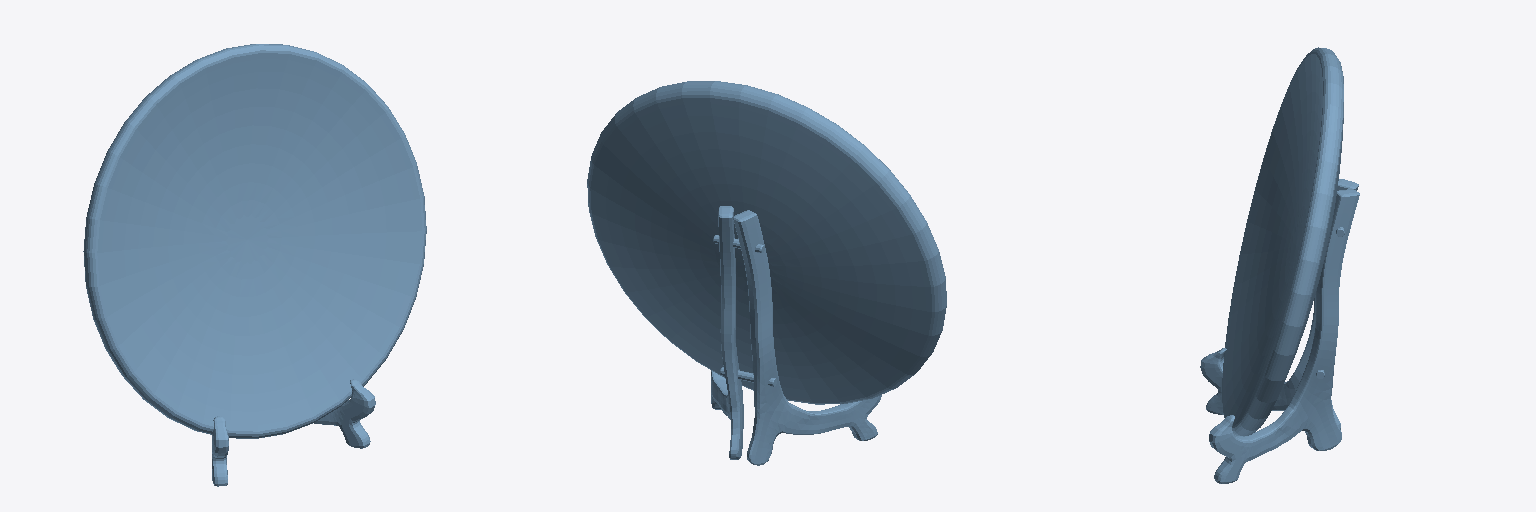
3 renders of one model, left to right at view 1: azimuth 30°, elevation 25°; view 2: azimuth 150°, elevation 25°; view 3: azimuth 270°, elevation 25°, orthographic.
Parts seen in each view (by area): view 1: Arch32_040_obj_00, Arch32_040_obj_01; view 2: Arch32_040_obj_00, Arch32_040_obj_01; view 3: Arch32_040_obj_00, Arch32_040_obj_01.
Boxes of the visible parts, x1,y1,x2,y2 form: Arch32_040_obj_00: [83, 44, 426, 438]; Arch32_040_obj_01: [212, 379, 375, 486]; Arch32_040_obj_00: [587, 81, 946, 404]; Arch32_040_obj_01: [711, 206, 881, 465]; Arch32_040_obj_00: [1222, 47, 1343, 435]; Arch32_040_obj_01: [1200, 179, 1359, 483].
Size of the model in its own units: 362 by 379 by 145.